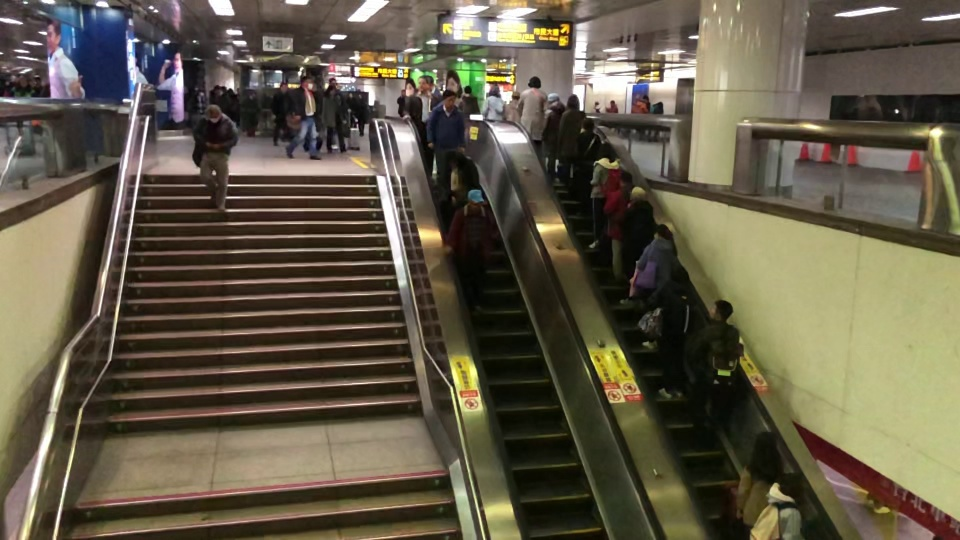person_head: (778, 471, 804, 500), (752, 430, 778, 458), (708, 299, 733, 321), (669, 262, 688, 285), (466, 189, 484, 211), (443, 149, 462, 168), (653, 223, 673, 241), (205, 104, 221, 124), (630, 185, 647, 203), (442, 89, 456, 110), (597, 142, 614, 159), (416, 75, 431, 94), (566, 93, 581, 110), (619, 171, 633, 189), (581, 116, 595, 133), (299, 75, 313, 91), (546, 92, 560, 107), (527, 75, 541, 89), (488, 85, 501, 97), (17, 75, 28, 88), (32, 74, 42, 87), (510, 90, 520, 101), (279, 82, 288, 94), (326, 85, 335, 96), (463, 84, 472, 95), (327, 78, 337, 87), (197, 79, 205, 90), (219, 86, 227, 96), (429, 75, 434, 90), (212, 85, 220, 94), (227, 87, 234, 96), (642, 94, 649, 102), (656, 101, 663, 109), (357, 94, 363, 100), (348, 92, 353, 99), (400, 89, 405, 96), (594, 101, 599, 107), (610, 100, 615, 106)
person_vbox: (684, 299, 740, 451), (442, 189, 501, 313), (653, 261, 698, 399), (635, 223, 680, 349), (734, 430, 783, 540), (191, 104, 239, 213), (618, 185, 654, 305), (402, 75, 440, 185), (425, 89, 465, 189), (602, 171, 633, 285), (587, 142, 619, 249), (284, 75, 322, 160), (572, 116, 602, 216), (765, 471, 806, 540), (556, 93, 586, 185), (441, 149, 480, 210), (516, 75, 547, 151), (540, 92, 565, 183), (7, 75, 35, 136), (270, 82, 295, 145), (323, 85, 346, 153), (328, 78, 347, 150), (630, 94, 649, 140), (482, 85, 504, 120), (646, 101, 664, 142), (193, 78, 207, 125), (458, 84, 479, 114), (354, 94, 367, 136), (505, 90, 520, 123), (227, 87, 239, 126), (605, 100, 619, 132), (218, 86, 232, 117), (346, 92, 357, 129), (31, 74, 48, 97), (396, 88, 405, 117), (429, 75, 441, 96), (209, 85, 220, 105), (591, 100, 604, 113)
